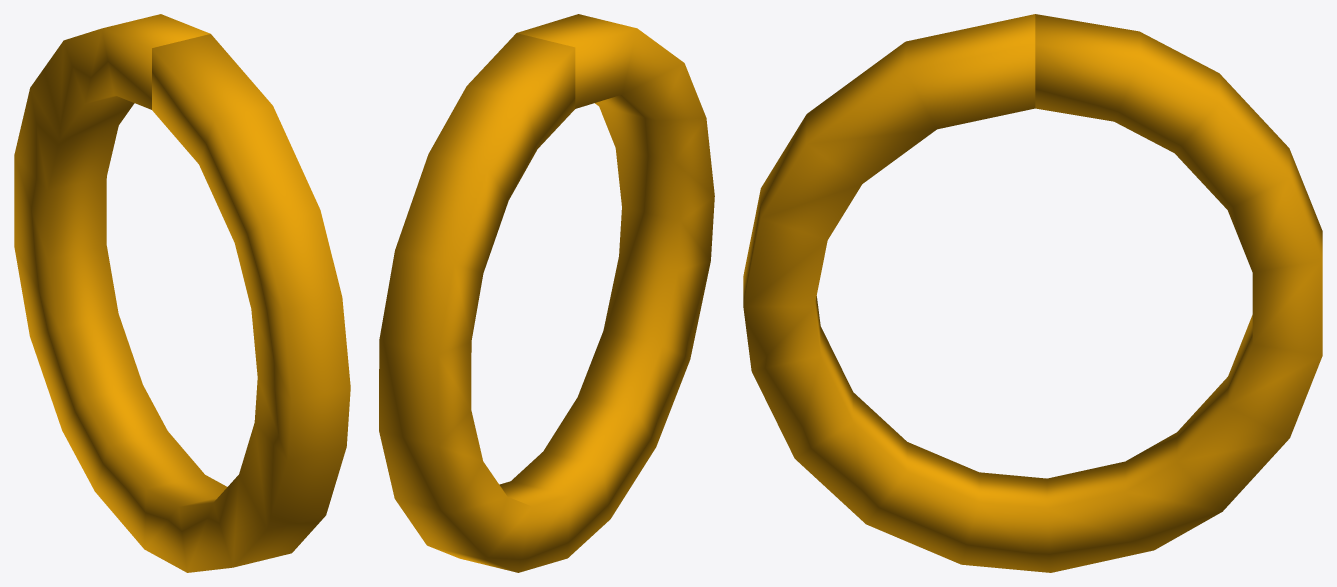
Rendered from Beam_01_Bend_05.fbx.
The picture shows the model from 3 angles, left to right: view 1: azimuth 30°, elevation 25°; view 2: azimuth 150°, elevation 25°; view 3: azimuth 270°, elevation 25°; orthographic projection. The views are drawn at different scales.
Parts seen in each view (by area): view 1: Beam_01_Bend_05; view 2: Beam_01_Bend_05; view 3: Beam_01_Bend_05.
Part boxes in pixels (x1,y1,x2,y2): Beam_01_Bend_05: (14,14,350,572); Beam_01_Bend_05: (379,14,714,572); Beam_01_Bend_05: (743,14,1322,572).
Bounding box in the file's own units: 32.52 × 267 × 265.
